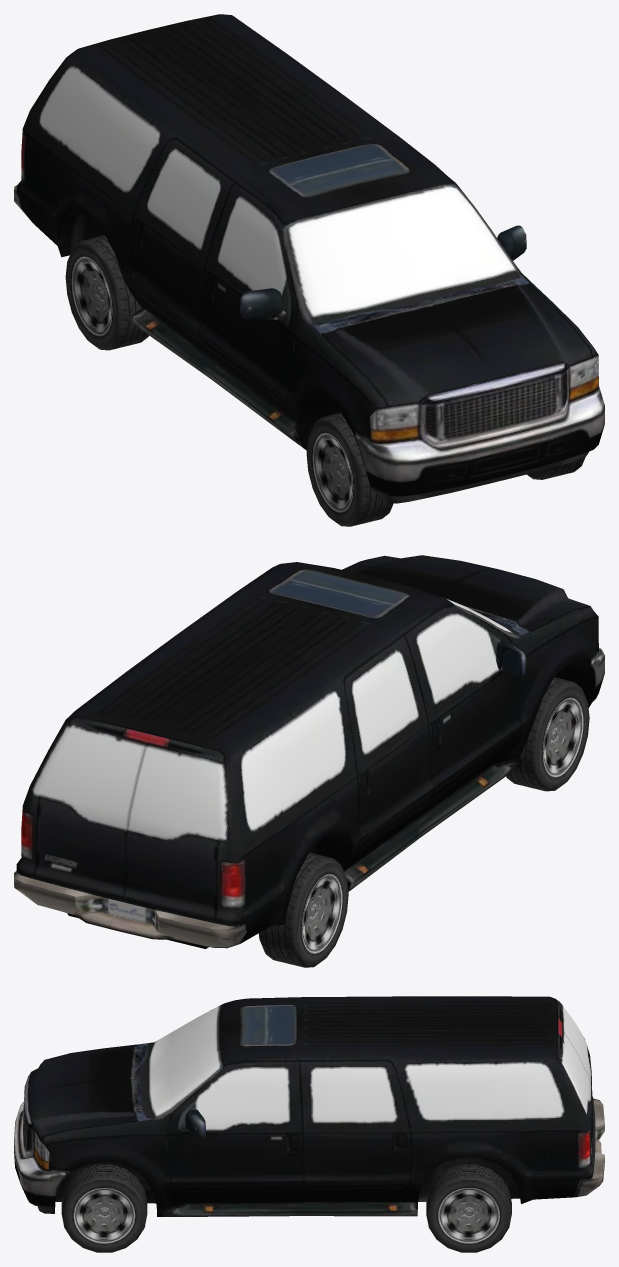
Rendered from suv_black.glb.
3 renders of one model, top to bottom at view 1: azimuth 30°, elevation 25°; view 2: azimuth 150°, elevation 25°; view 3: azimuth 270°, elevation 25°, orthographic. The views are drawn at different scales.
Visible parts, largest first — view 1: Body; view 2: Body; view 3: Body.
Boxes of the visible parts, left/top/right/bottom form: Body: left=14, top=14, right=604, bottom=526; Body: left=14, top=555, right=604, bottom=967; Body: left=14, top=996, right=604, bottom=1252.
Bounding box in the file's own units: 2.11 × 1.78 × 5.04.
Materials: 2 (2 with a texture image).
